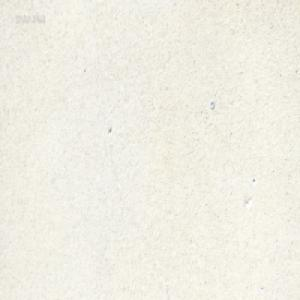Washer: (209, 99, 215, 109)
